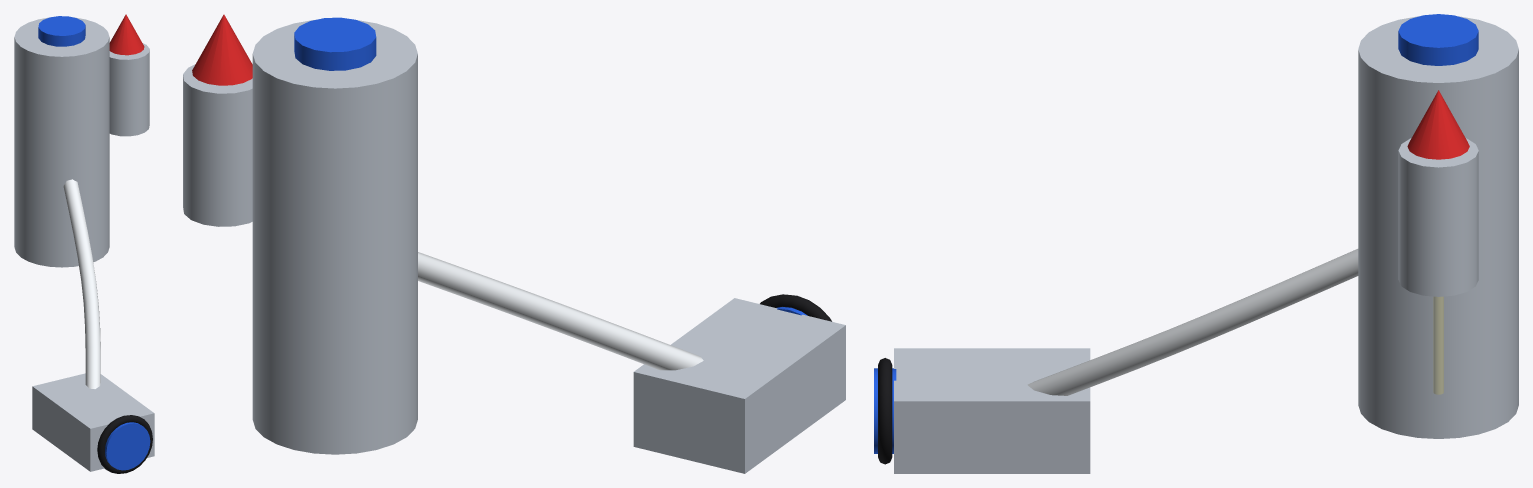
File: dry_sump_system.glb
The picture shows the model from 3 angles, left to right: view 1: azimuth 30°, elevation 25°; view 2: azimuth 150°, elevation 25°; view 3: azimuth 270°, elevation 25°; orthographic projection. The views are drawn at different scales.
Visible parts, largest first — view 1: Dry_Sump_Lubrication_Assembly; view 2: Dry_Sump_Lubrication_Assembly; view 3: Dry_Sump_Lubrication_Assembly.
Boxes of the visible parts, <box> form: Dry_Sump_Lubrication_Assembly: <box>14,14,154,473</box>; Dry_Sump_Lubrication_Assembly: <box>183,14,845,473</box>; Dry_Sump_Lubrication_Assembly: <box>874,14,1518,473</box>.
Bounding box in the file's own units: 0.475 × 0.6325 × 0.7225.
